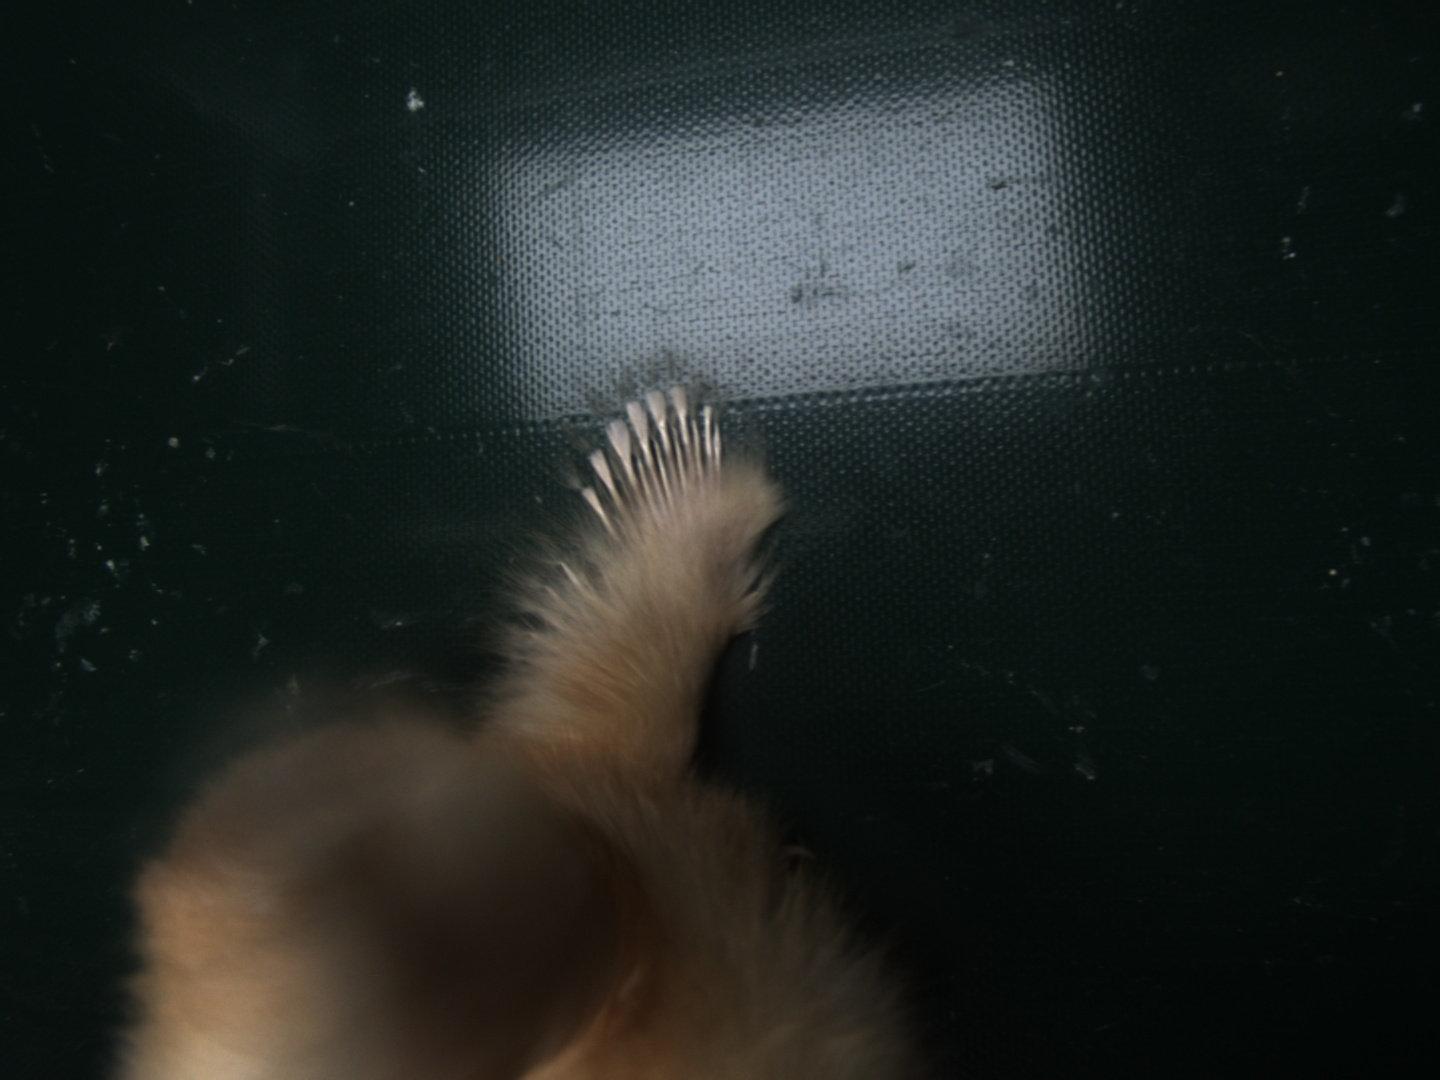female: (573, 385, 727, 535)
